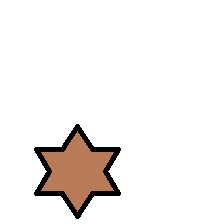star: (34, 124, 120, 220)
